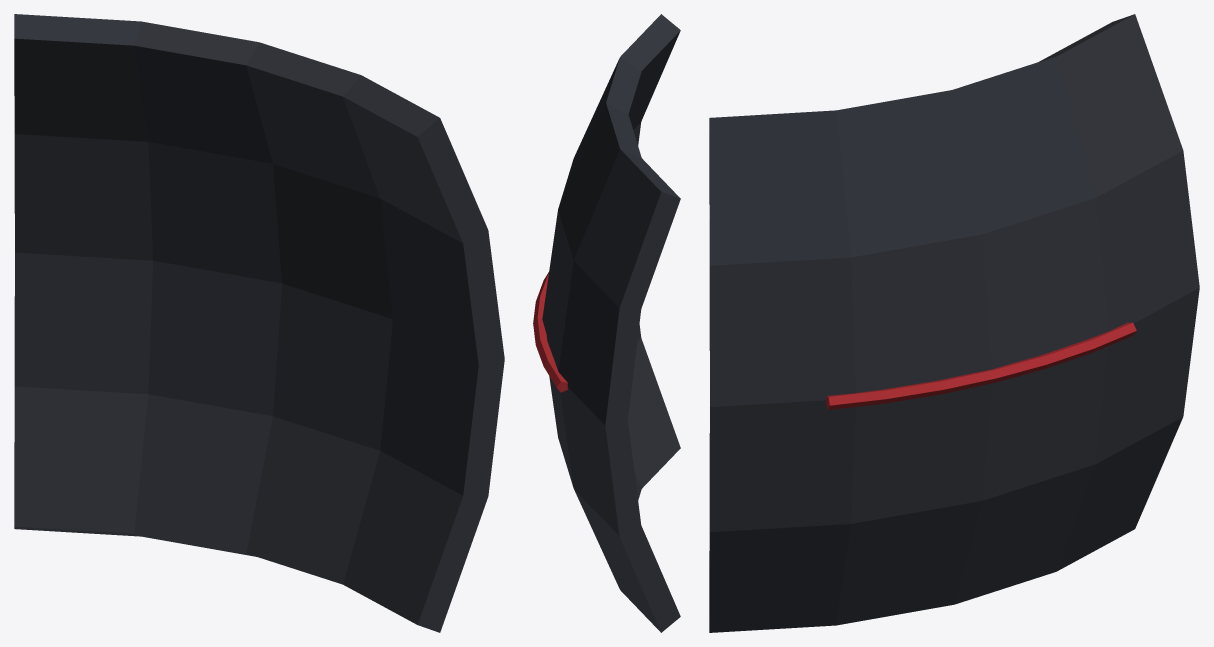
File: nociosphere_shell_E.obj
3 views of the same model, side by side, from view 1: azimuth 30°, elevation 25°; view 2: azimuth 150°, elevation 25°; view 3: azimuth 270°, elevation 25° (orthographic). The views are drawn at different scales.
Parts seen in each view (by area): view 1: nociosphere_shell_E; view 2: nociosphere_shell_E; view 3: nociosphere_shell_E.
Boxes of the visible parts, <box> form: nociosphere_shell_E: <box>14,14,504,632</box>; nociosphere_shell_E: <box>533,14,680,632</box>; nociosphere_shell_E: <box>709,14,1199,632</box>.
Bounding box in the file's own units: 0.3985 × 0.6777 × 0.585.
